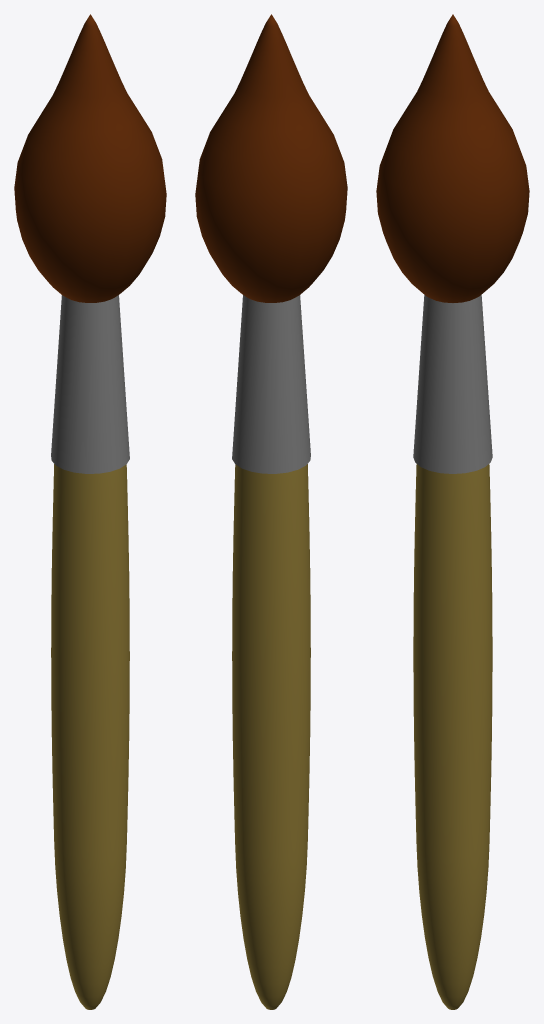
Rendered from Paintbrush.fbx.
3 renders of one model, left to right at view 1: azimuth 30°, elevation 25°; view 2: azimuth 150°, elevation 25°; view 3: azimuth 270°, elevation 25°, orthographic.
Visible parts, largest first — view 1: pCylinder1, pSphere1, pCylinder2; view 2: pCylinder1, pSphere1, pCylinder2; view 3: pCylinder1, pSphere1, pCylinder2.
Part boxes in pixels (x1,y1,x2,y2): pCylinder1: (51, 464, 129, 1009); pSphere1: (14, 14, 166, 302); pCylinder2: (51, 295, 129, 473); pCylinder1: (232, 464, 310, 1009); pSphere1: (195, 14, 347, 302); pCylinder2: (232, 295, 310, 473); pCylinder1: (413, 464, 492, 1009); pSphere1: (376, 14, 529, 302); pCylinder2: (413, 295, 492, 473).
Size of the model in its own units: 2.58 by 18.5 by 2.58.
